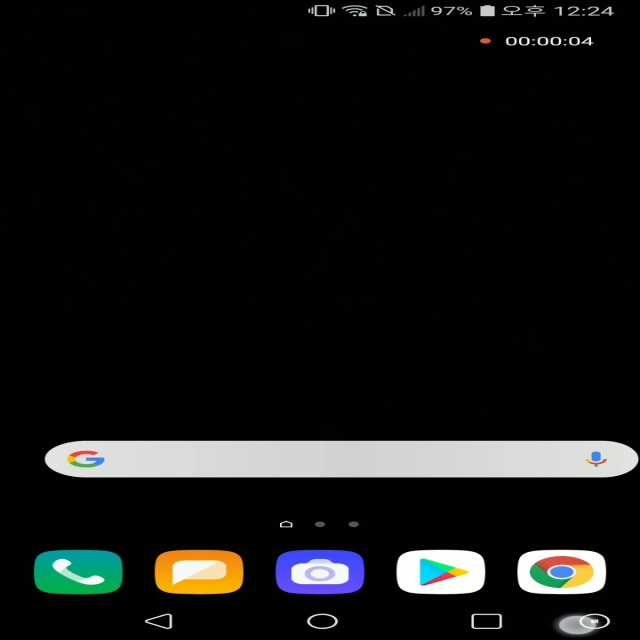Cursor: (556, 615, 600, 637)
